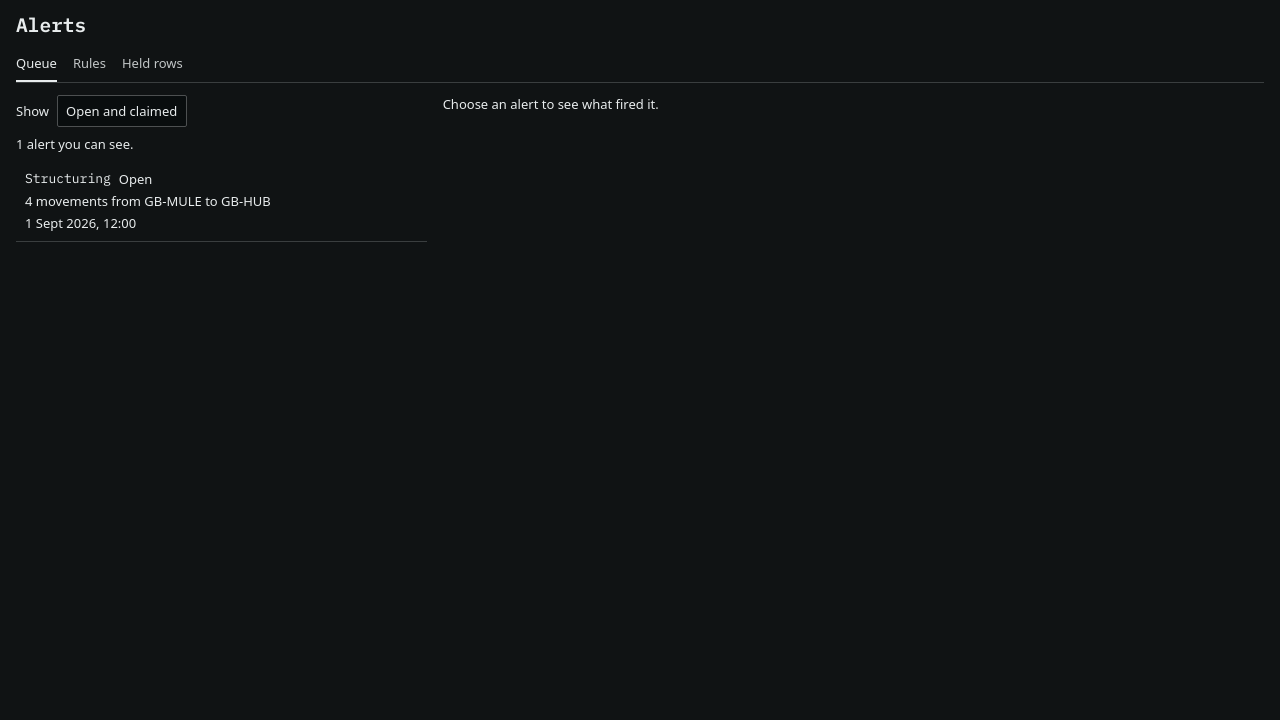
Scenario: the Alerts place › says in words when someone else got to the alert first
Click the button with aria-label "Open alert". click: click(221, 201)
box: [16, 161, 427, 241]
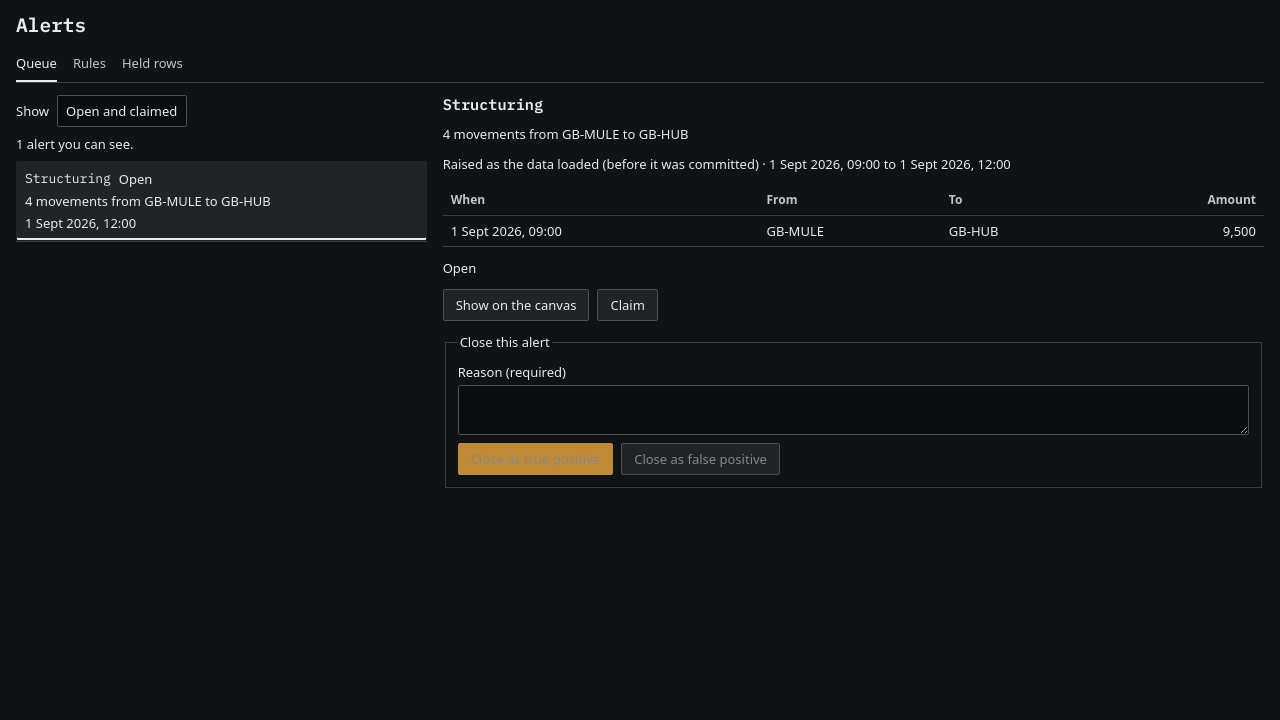
Click the button "Claim". click: click(628, 305)
box: [598, 289, 658, 321]
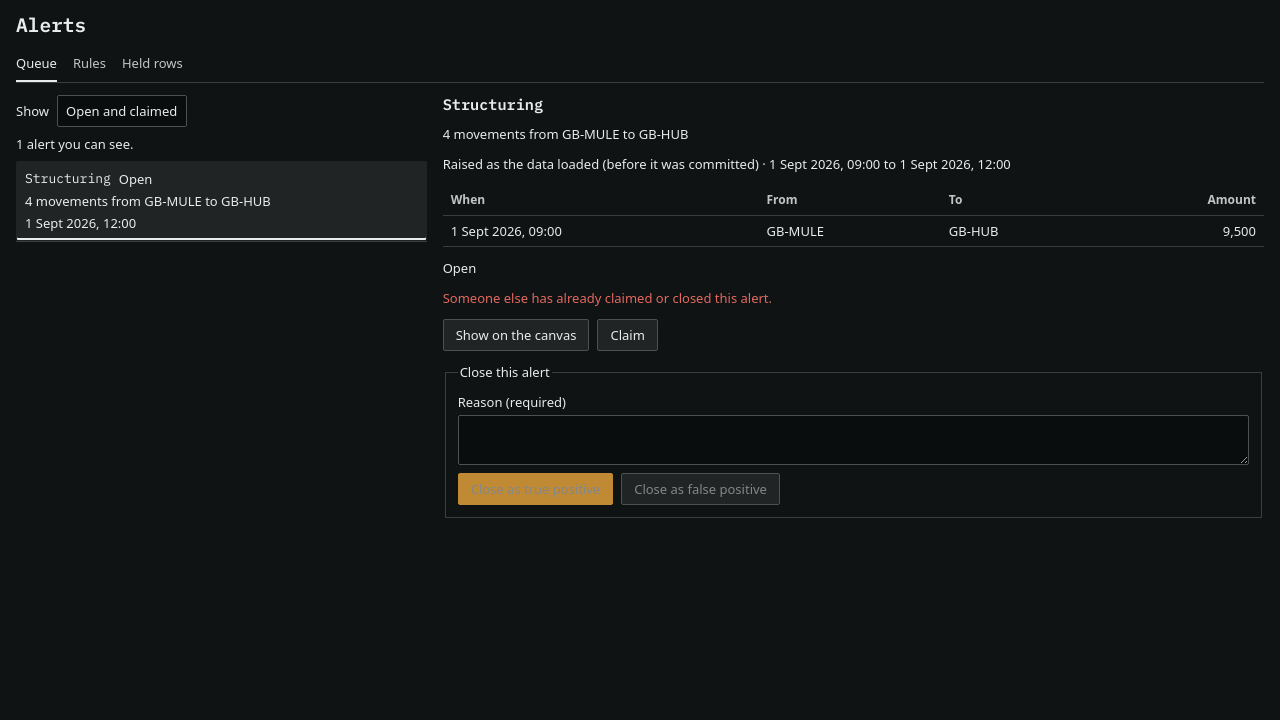
Expected: the text "Someone else has already claimed or closed this alert." is shown, [443, 289, 772, 307]
